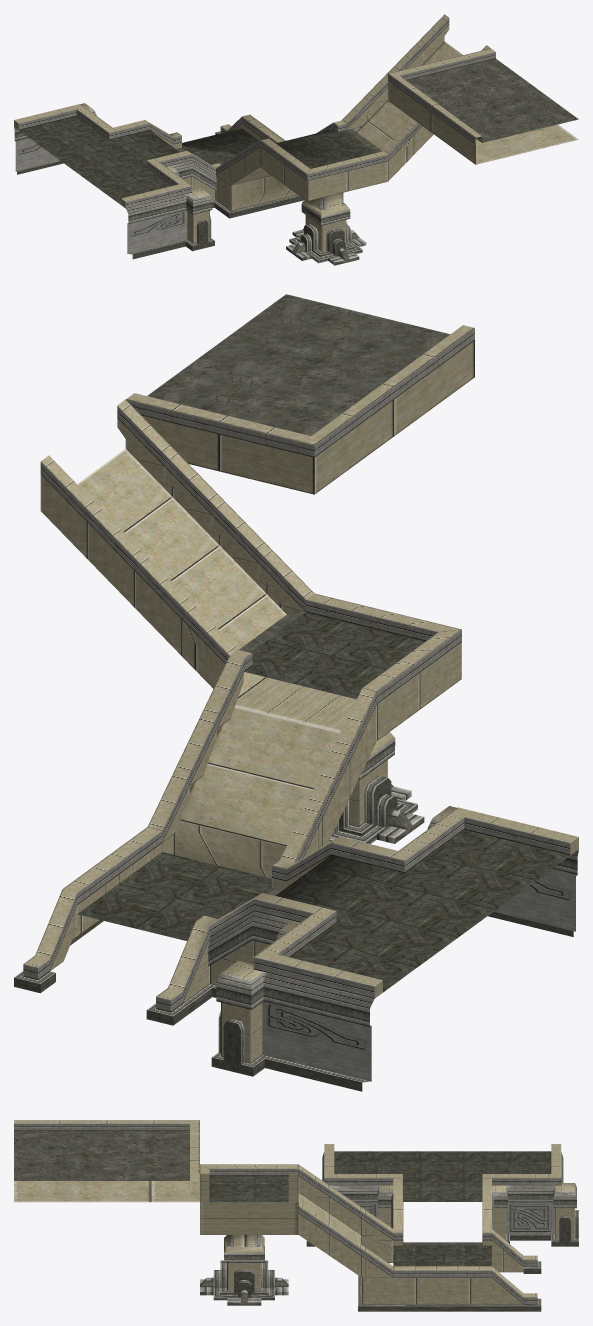
File: DWARF_PALACE_FORGE_STAIRSC.fbx
3 views of the same model, one above another, from view 1: azimuth 30°, elevation 25°; view 2: azimuth 150°, elevation 25°; view 3: azimuth 270°, elevation 25° (orthographic). The views are drawn at different scales.
Parts seen in each view (by area): view 1: DWARF_PALACE_FORGE_STAIRSC; view 2: DWARF_PALACE_FORGE_STAIRSC; view 3: DWARF_PALACE_FORGE_STAIRSC.
Boxes of the visible parts, left/top/right/bottom form: DWARF_PALACE_FORGE_STAIRSC: left=14, top=14, right=578, bottom=265; DWARF_PALACE_FORGE_STAIRSC: left=14, top=294, right=578, bottom=1091; DWARF_PALACE_FORGE_STAIRSC: left=14, top=1120, right=578, bottom=1311.
Bounding box in the file's own units: 190008 × 106026 × 286159.
Materials: 10 (10 with a texture image).
